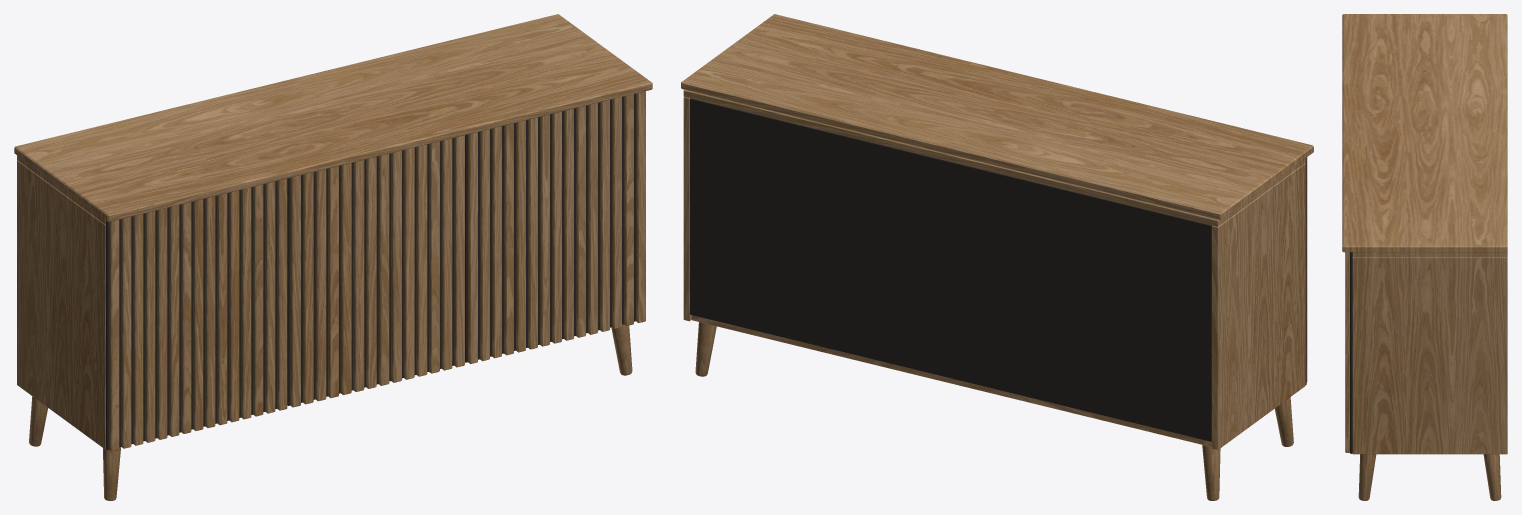
File: aparador_roble_150.glb
3 renders of one model, left to right at view 1: azimuth 30°, elevation 25°; view 2: azimuth 150°, elevation 25°; view 3: azimuth 270°, elevation 25°, orthographic. The views are drawn at different scales.
Parts seen in each view (by area): view 1: aparador_roble_150; view 2: aparador_roble_150; view 3: aparador_roble_150.
Part boxes in pixels (x1,y1,x2,y2): aparador_roble_150: (14, 14, 652, 500); aparador_roble_150: (681, 14, 1313, 500); aparador_roble_150: (1342, 14, 1507, 500).
Bounding box in the file's own units: 1.5 × 0.7811 × 0.4499.
Materials: 2 (1 with a texture image).
